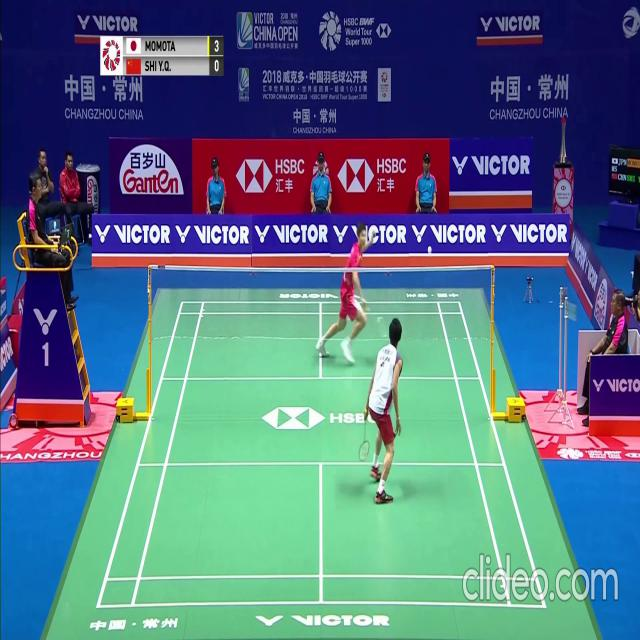Shuttlecock: (428, 248, 432, 256)
